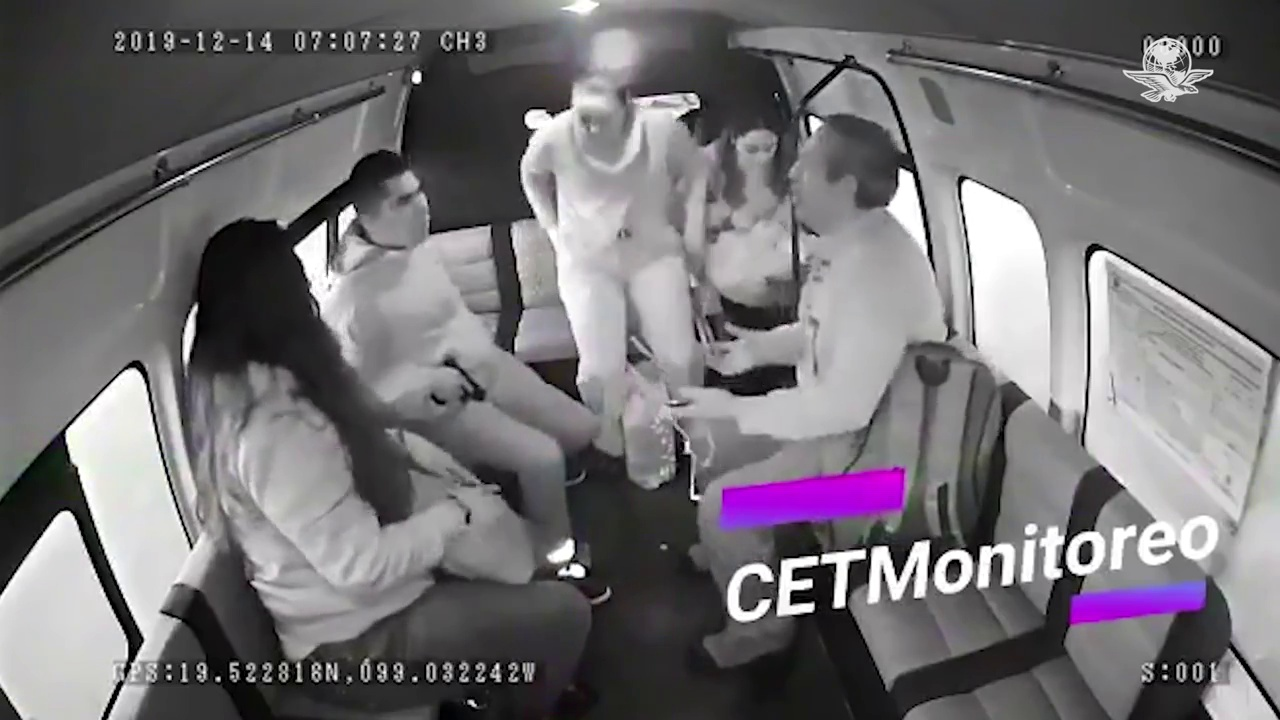pistol: (430, 353, 489, 406)
